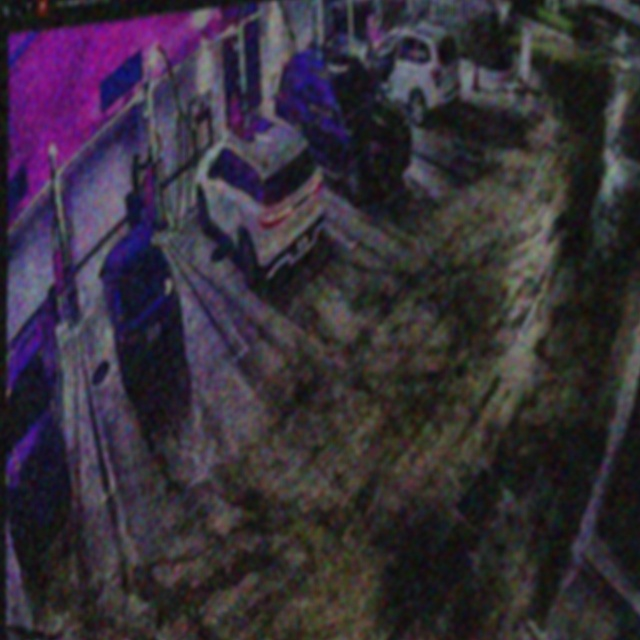Car: (194, 107, 330, 294), (273, 30, 411, 209), (99, 219, 185, 395)
